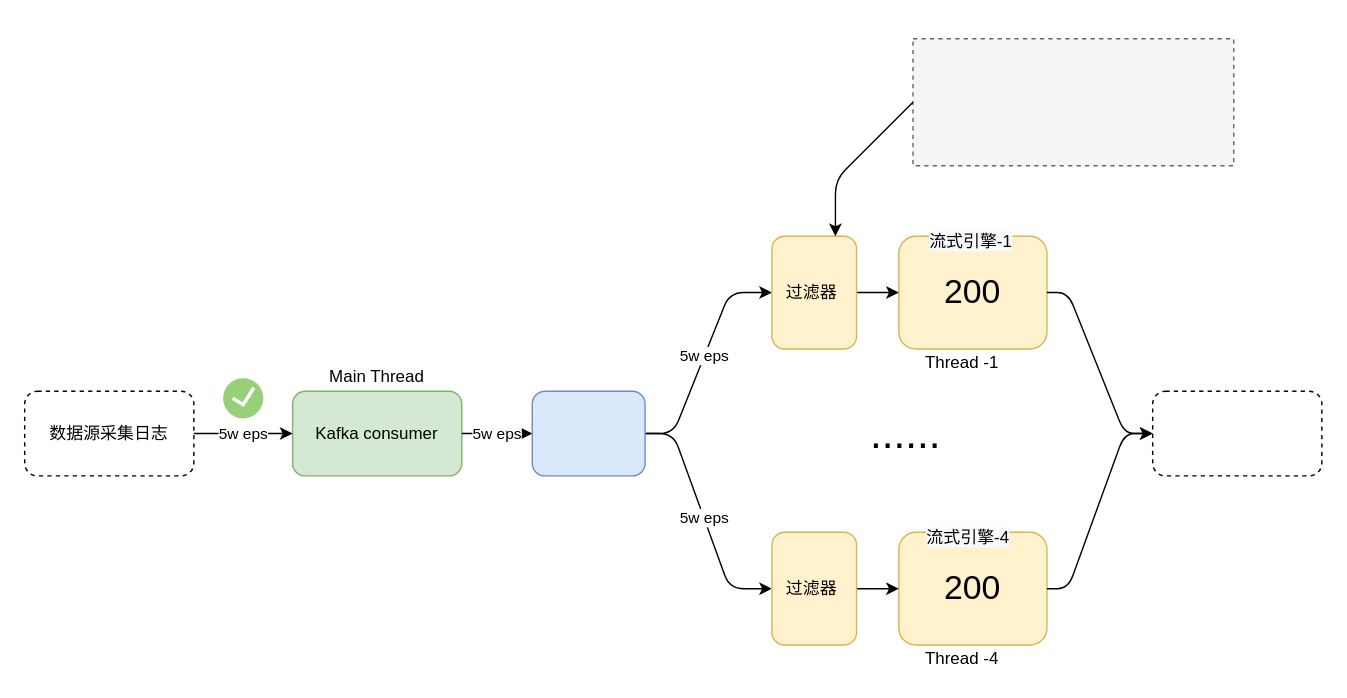
Image size: 1347x698. Some labels were removed from this diagram. Here are the shapes that lost their labels. From the top down, the centre of each, then its label:
At (1073,101): "更少的规则，更高的吞吐量 1. 更少的数据进入引擎 2. 更少的计算负载".
At (588,433): "事件广播器".
At (1236,433): "告警数据".
